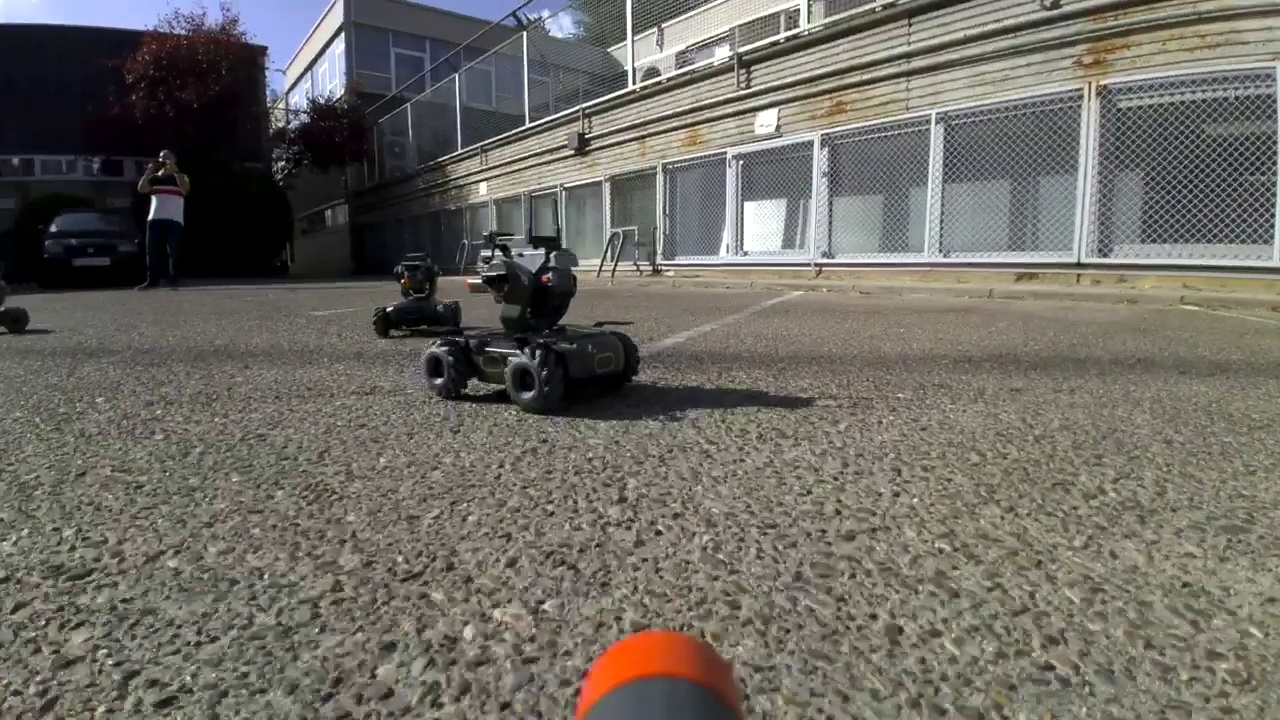robot: (423, 190, 640, 410), (369, 254, 464, 332), (1, 268, 32, 336)
